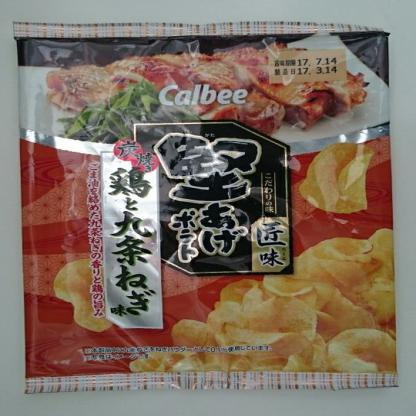potatochip: (2, 10, 406, 400)
